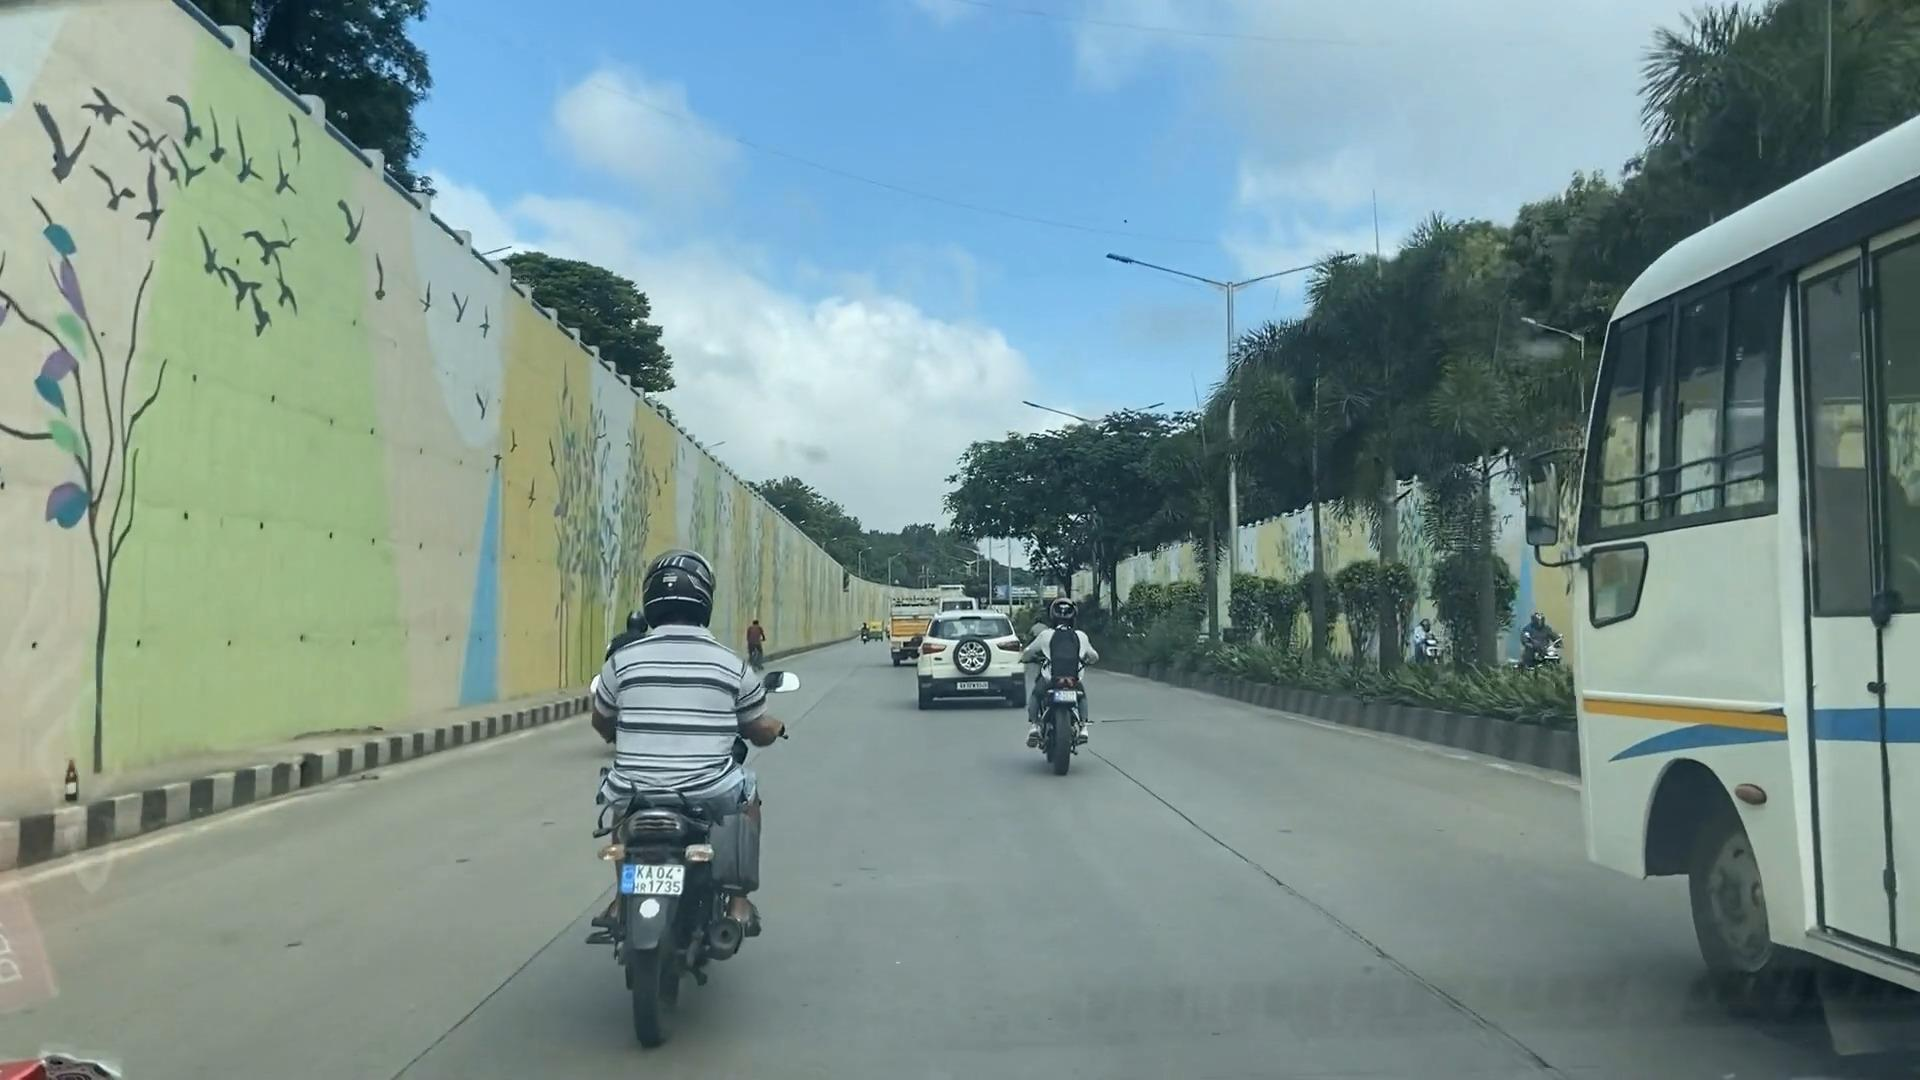LMV: (600, 550, 785, 1006), (1030, 591, 1096, 785), (916, 607, 1019, 716)
